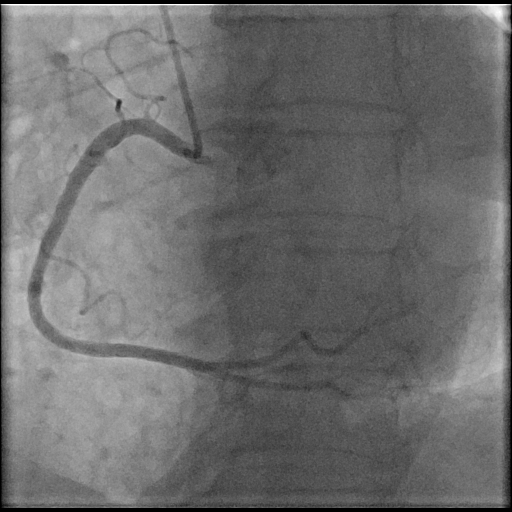RCA: (30, 119, 341, 392)
catherter: (156, 7, 203, 150)
